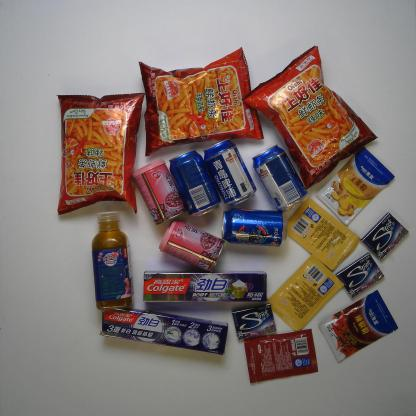Alcohol: (203, 139, 257, 208), (251, 146, 307, 211)
Canned Food: (130, 158, 186, 227), (158, 221, 224, 270)
Drink: (90, 208, 135, 312), (170, 148, 222, 216), (220, 207, 286, 246)
Gum: (360, 212, 410, 261), (337, 251, 384, 298), (230, 302, 277, 342)
Personal Hygiene: (98, 305, 228, 355), (140, 270, 268, 304)
Puffed Food: (243, 43, 380, 190), (139, 46, 264, 155), (54, 92, 145, 216)
Seasoner: (315, 143, 397, 224), (264, 251, 344, 334), (274, 195, 360, 271), (318, 290, 399, 363), (242, 328, 318, 384)
